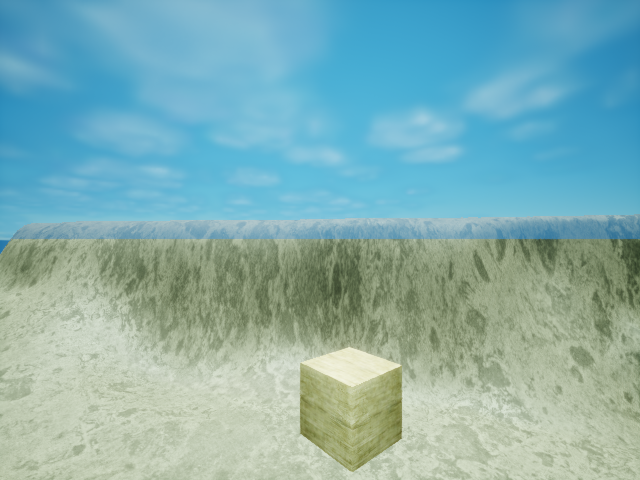Cube: (289, 340, 413, 477)
